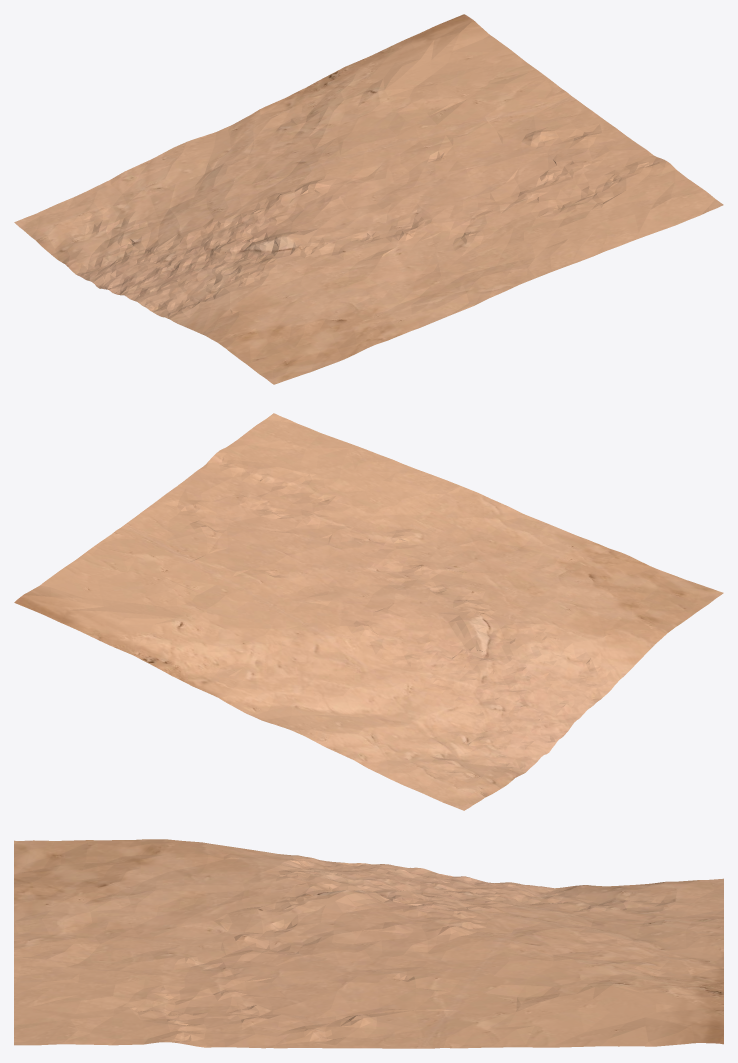
3 views of the same model, one above another, from view 1: azimuth 30°, elevation 25°; view 2: azimuth 150°, elevation 25°; view 3: azimuth 270°, elevation 25° (orthographic). The views are drawn at different scales.
Size of the model in its own units: 1.04 by 0.2371 by 1.04.
Materials: 2 (2 with a texture image).
